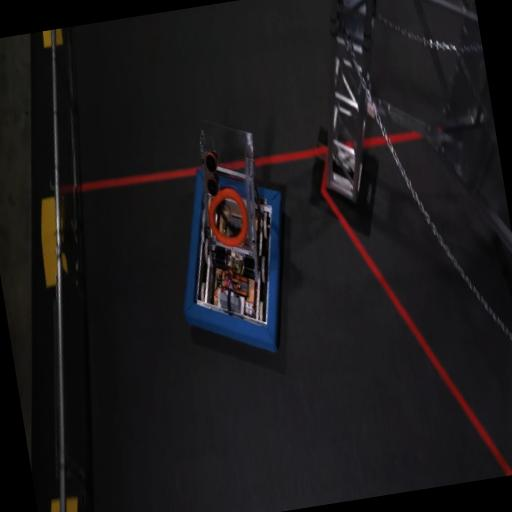robot: (154, 108, 308, 366)
